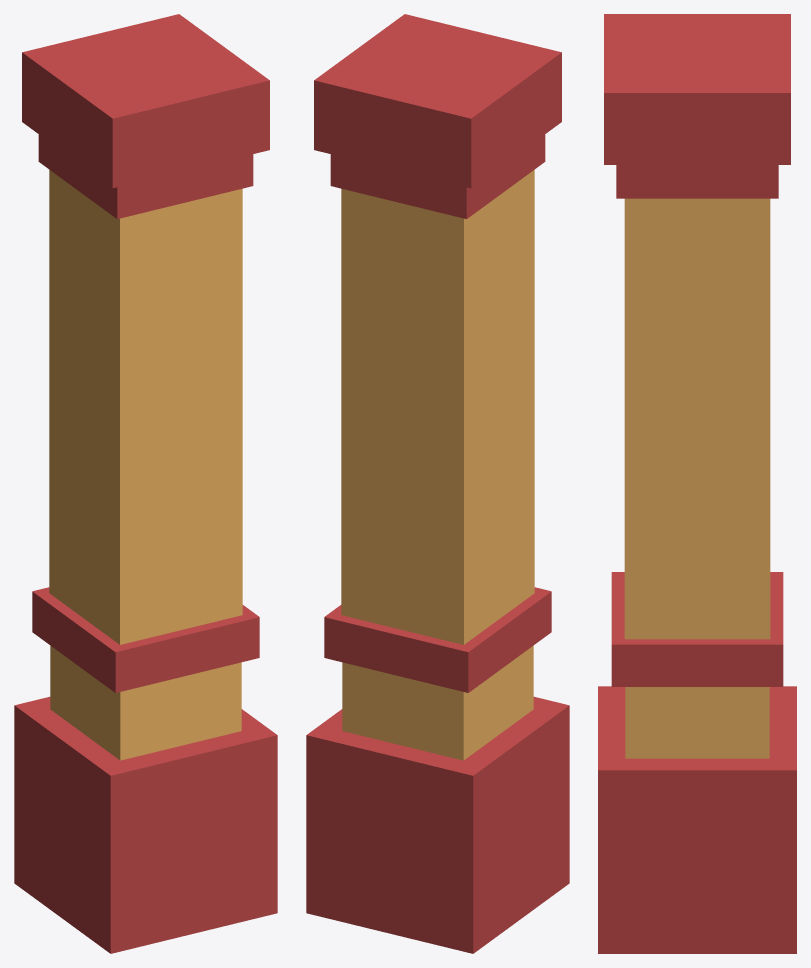
Rendered from pillar.fbx.
The picture shows the model from 3 angles, left to right: view 1: azimuth 30°, elevation 25°; view 2: azimuth 150°, elevation 25°; view 3: azimuth 270°, elevation 25°; orthographic projection. The views are drawn at different scales.
Parts seen in each view (by area): view 1: pillar; view 2: pillar; view 3: pillar.
Boxes of the visible parts, x1,y1,x2,y2 form: pillar: [14, 14, 277, 953]; pillar: [306, 14, 569, 953]; pillar: [598, 14, 796, 953].
Bounding box in the file's own units: 538 × 2565 × 538.
